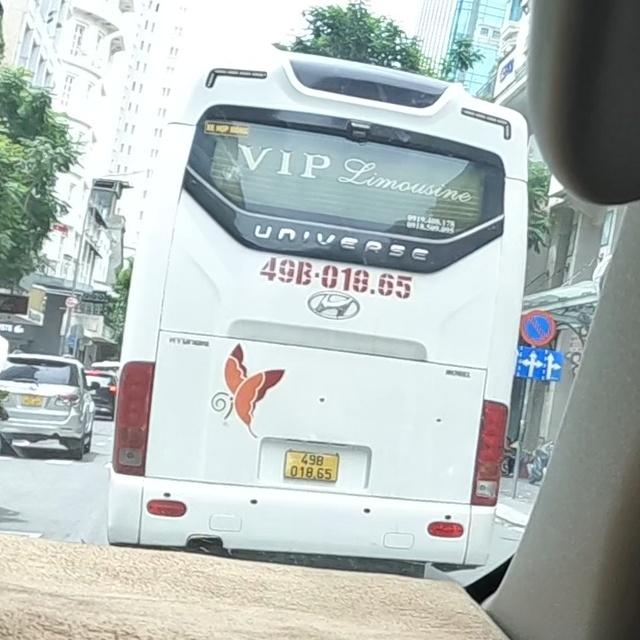license-plate: (283, 450, 339, 483)
